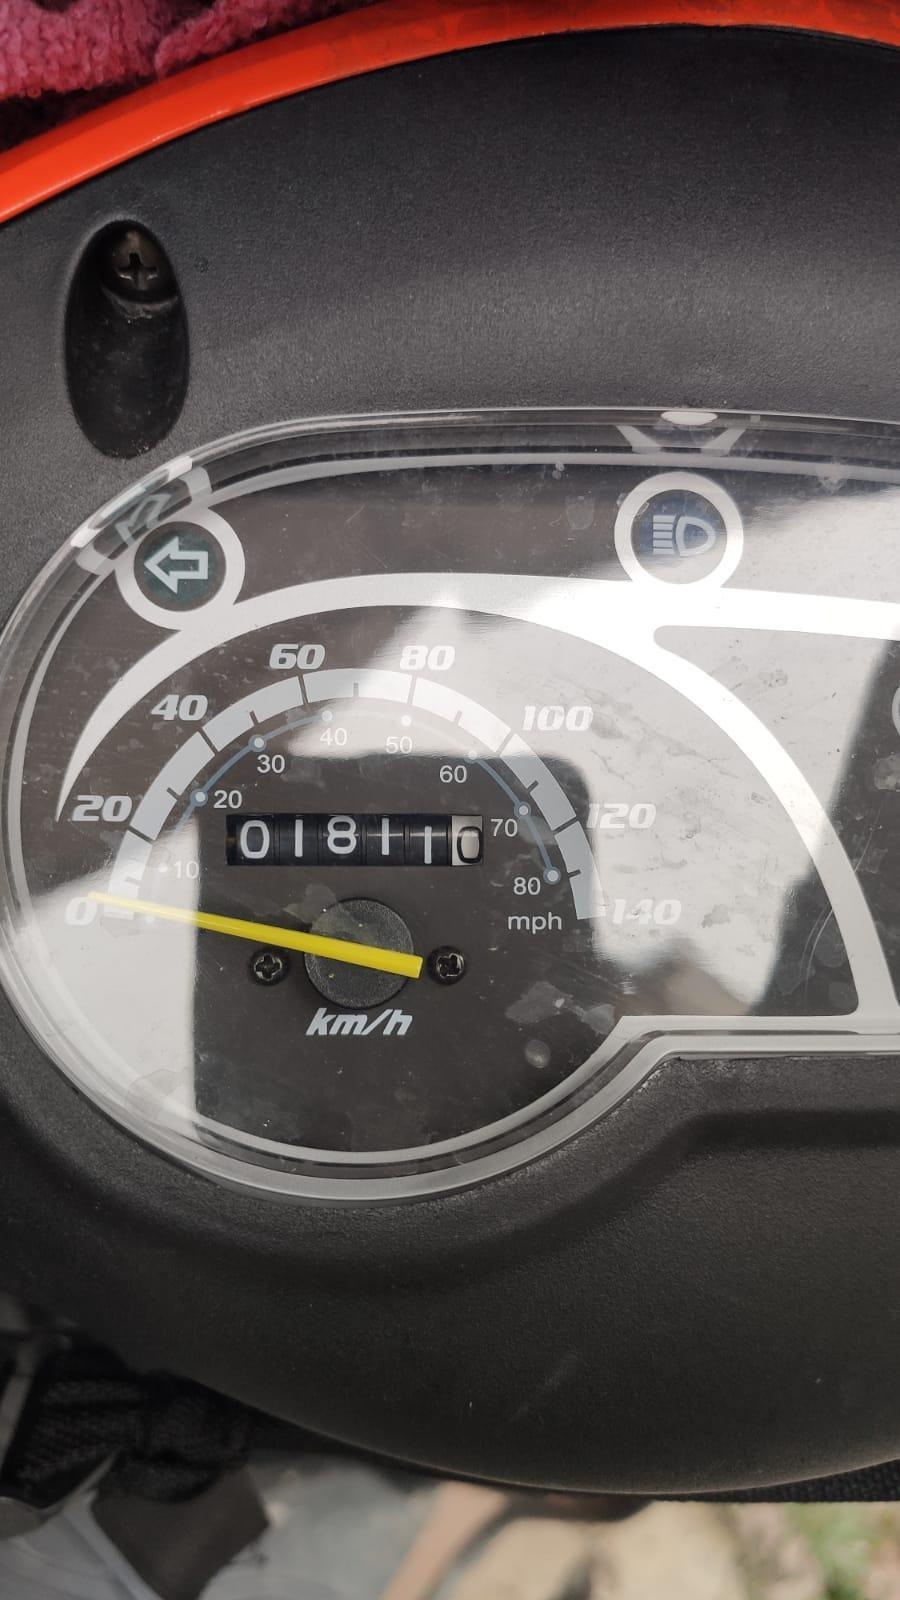0: (238, 818, 273, 862), (456, 823, 484, 864)
1: (420, 823, 437, 870), (289, 816, 307, 862), (378, 815, 393, 859)
8: (325, 815, 360, 856)
odometer: (223, 809, 486, 873)
